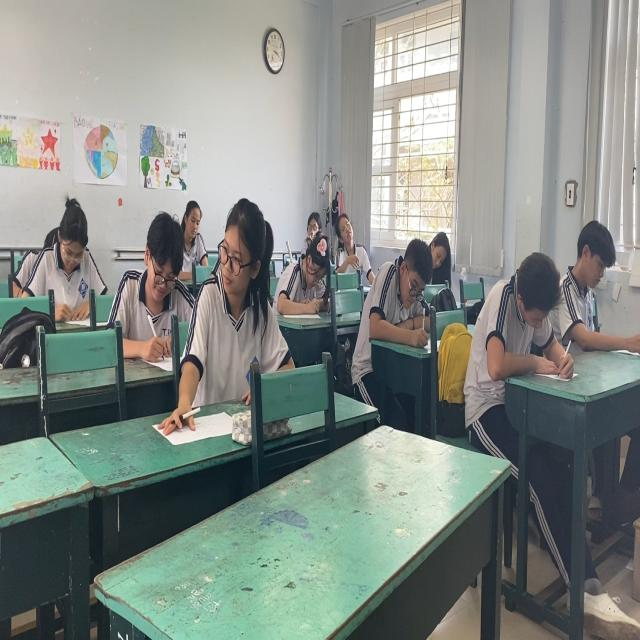cheating: (202, 192, 277, 368)
not_cheating: (478, 240, 569, 388), (124, 215, 192, 341), (562, 216, 623, 354), (36, 189, 110, 302), (377, 243, 435, 344), (278, 219, 328, 316), (334, 212, 373, 284), (178, 192, 208, 268), (427, 229, 456, 275)
